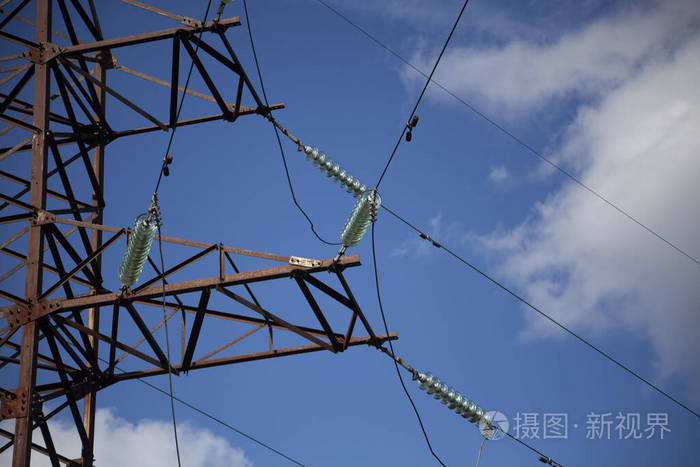insulator: (417, 369, 490, 428), (305, 144, 364, 194), (116, 217, 158, 284), (342, 189, 381, 250)
